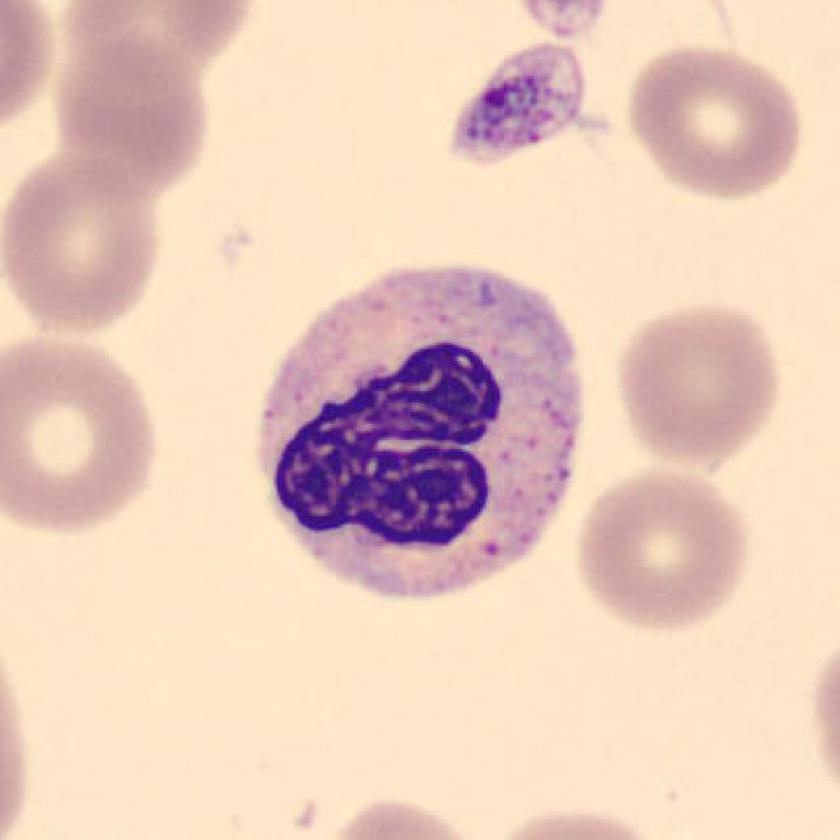neutrophil: (259, 269, 587, 601)
